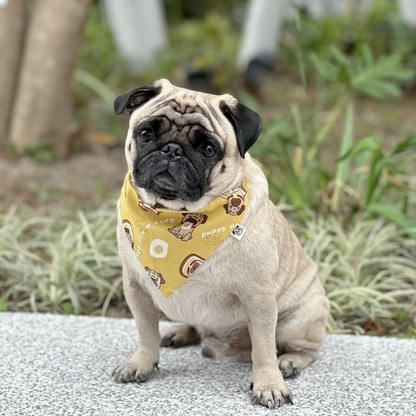Pug: (106, 75, 333, 411)
